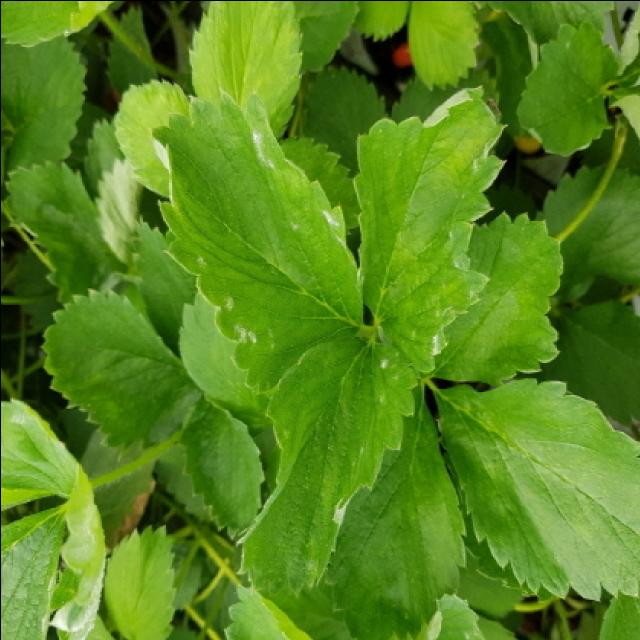Powdery Mildew Leaf: (146, 83, 363, 396), (234, 326, 419, 598), (349, 84, 509, 374), (0, 394, 104, 640)
